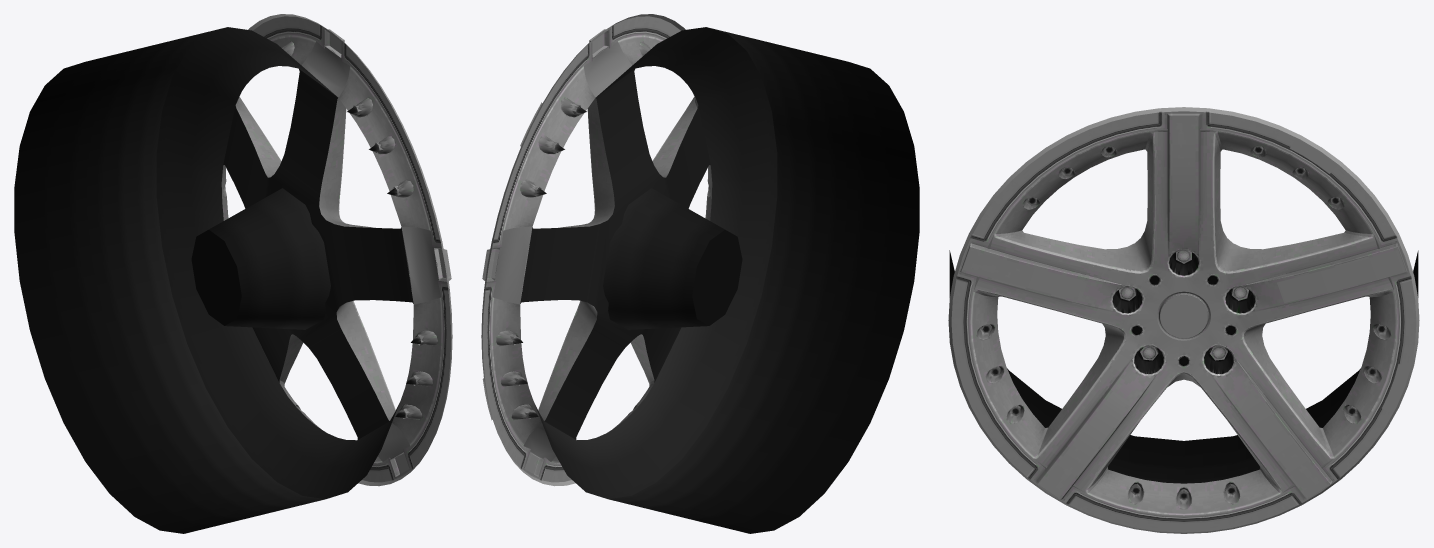
The model's file is wheel69.fbx.
3 views of the same model, side by side, from view 1: azimuth 30°, elevation 25°; view 2: azimuth 150°, elevation 25°; view 3: azimuth 270°, elevation 25° (orthographic). The views are drawn at different scales.
Parts seen in each view (by area): view 1: mom_gtr_wheel_wheel_inner_rim_, mom_gtr_wheel_wheel_rim_, wheel_rim; view 2: mom_gtr_wheel_wheel_inner_rim_, wheel_rim, mom_gtr_wheel_wheel_rim_; view 3: mom_gtr_wheel_wheel_rim_, wheel_rim, mom_gtr_wheel_wheel_inner_rim_, mom_gtr_wheel_wheel_wheel_emblem_, mom_gtr_wheel_wheel_chrome_rim_.
Boxes of the visible parts, x1,y1,x2,y2 form: mom_gtr_wheel_wheel_inner_rim_: (14, 27, 413, 533); mom_gtr_wheel_wheel_rim_: (221, 14, 452, 486); wheel_rim: (222, 16, 452, 484); mom_gtr_wheel_wheel_inner_rim_: (520, 27, 919, 533); wheel_rim: (481, 14, 712, 481); mom_gtr_wheel_wheel_rim_: (482, 14, 711, 486); mom_gtr_wheel_wheel_rim_: (951, 108, 1415, 532); wheel_rim: (948, 107, 1419, 533); mom_gtr_wheel_wheel_inner_rim_: (949, 250, 1418, 483); mom_gtr_wheel_wheel_wheel_emblem_: (1277, 139, 1410, 412); mom_gtr_wheel_wheel_chrome_rim_: (1119, 250, 1248, 360).
Bounding box in the file's own units: 0.2341 × 0.48 × 0.48.
Materials: 1 (1 with a texture image).
